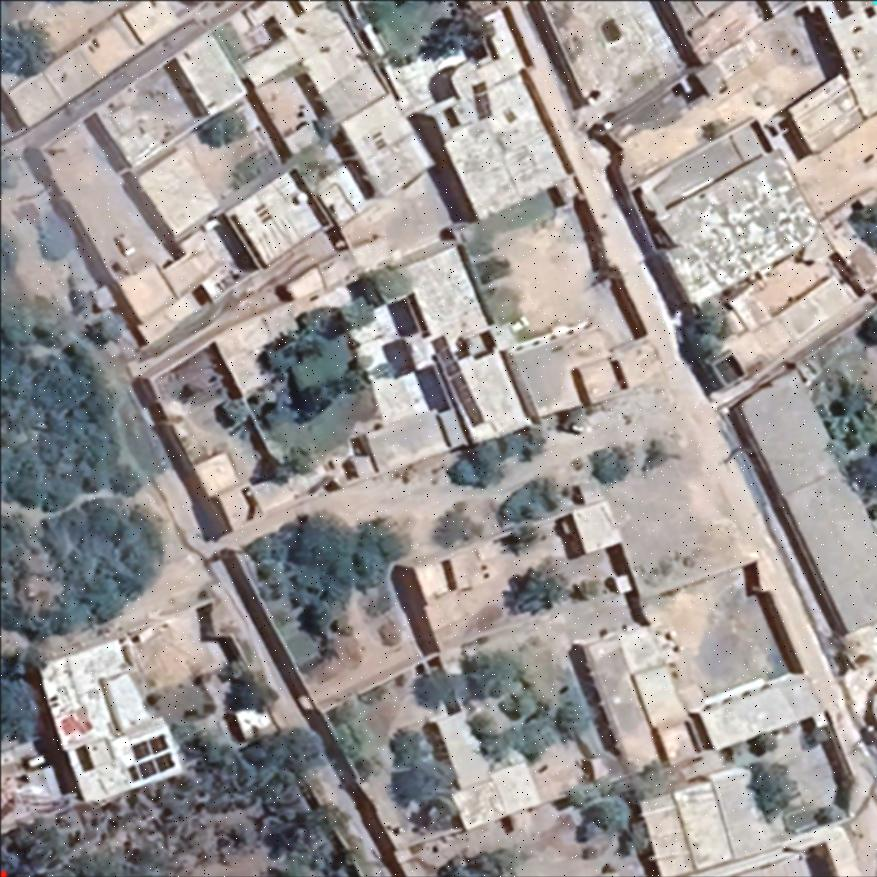Solarpanel: (427, 328, 490, 435), (118, 725, 180, 787), (470, 79, 496, 125)
